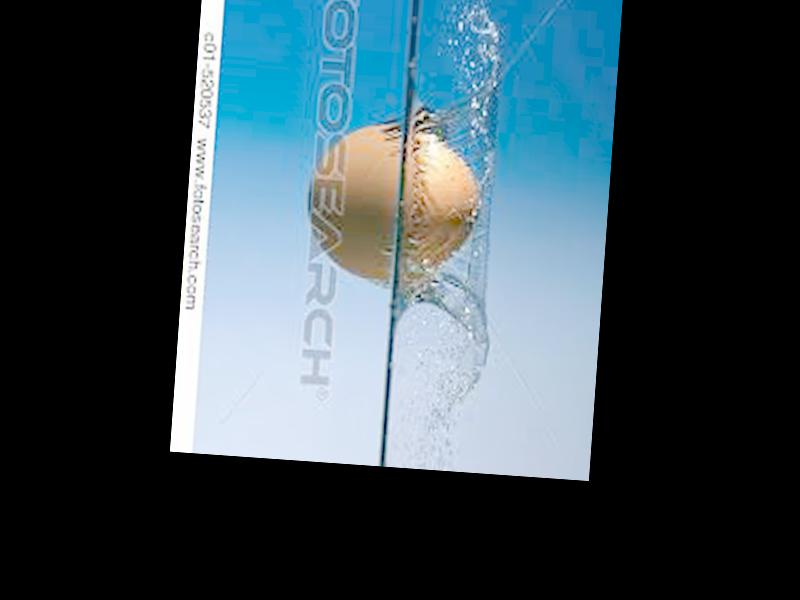Eggs: (305, 119, 485, 288)
